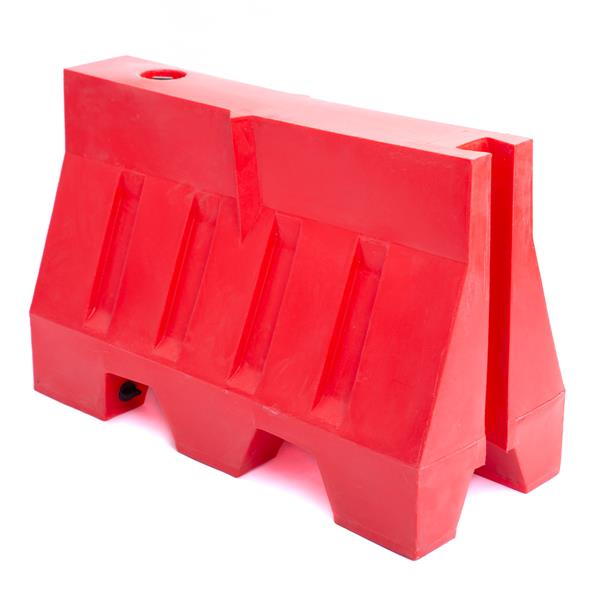Barrier: (23, 44, 577, 560)
